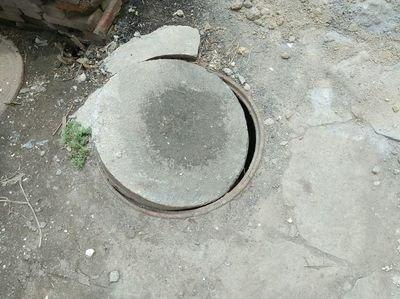wellcover: (89, 50, 278, 214)
